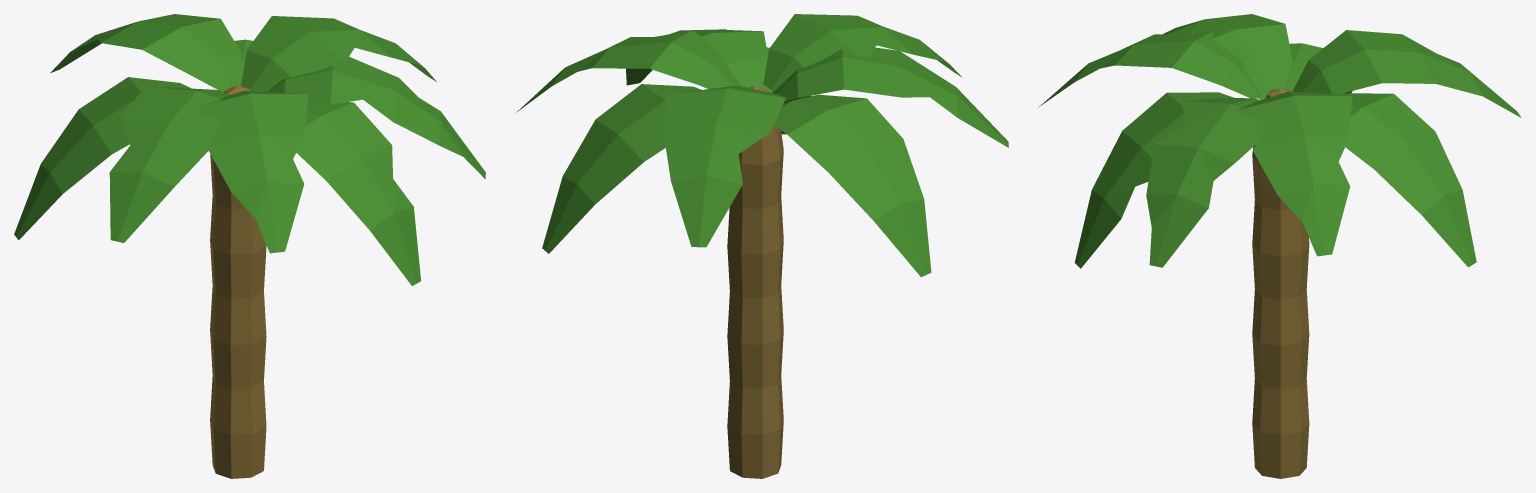
File: PalmTree_2.fbx
3 renders of one model, left to right at view 1: azimuth 30°, elevation 25°; view 2: azimuth 150°, elevation 25°; view 3: azimuth 270°, elevation 25°, orthographic.
Visible parts, largest first — view 1: Trunk, Leaf_4.002, Leaf_2.001, Leaf_3, Leaf_1, Leaf_4, Leaf_4.001, Leaf_2, Leaf_4.003, Leaf_2.003, Leaf_3.001, Leaf_4.005 (+3 smaller); view 2: Trunk, Leaf_1, Leaf_2, Leaf_1.001, Leaf_4.002, Leaf_4, Leaf_3.001, Leaf_1.002, Leaf_2.002, Leaf_3, Leaf_4.001, Leaf_1.003 (+3 smaller); view 3: Trunk, Leaf_4, Leaf_4.001, Leaf_1.001, Leaf_2, Leaf_2.001, Leaf_4.002, Leaf_3.001, Leaf_4.005, Leaf_4.004, Leaf_1.003, Leaf_2.002 (+3 smaller).
Part boxes in pixels (left/top/right/bottom): Trunk: left=210, top=86, right=266, bottom=478; Leaf_4.002: left=199, top=90, right=308, bottom=253; Leaf_2.001: left=296, top=102, right=420, bottom=285; Leaf_3: left=109, top=86, right=220, bottom=242; Leaf_1: left=14, top=77, right=190, bottom=240; Leaf_4: left=241, top=16, right=436, bottom=91; Leaf_4.001: left=268, top=57, right=485, bottom=179; Leaf_2: left=50, top=14, right=242, bottom=91; Leaf_4.003: left=200, top=91, right=306, bottom=251; Leaf_2.003: left=297, top=102, right=419, bottom=283; Leaf_3.001: left=120, top=86, right=229, bottom=138; Leaf_4.005: left=242, top=16, right=434, bottom=91; Trunk: left=727, top=86, right=783, bottom=478; Leaf_1: left=774, top=94, right=931, bottom=276; Leaf_2: left=663, top=85, right=785, bottom=247; Leaf_1.001: left=542, top=84, right=701, bottom=253; Leaf_4.002: left=763, top=14, right=962, bottom=91; Leaf_4: left=516, top=30, right=740, bottom=112; Leaf_3.001: left=772, top=49, right=902, bottom=101; Leaf_1.002: left=777, top=96, right=930, bottom=274; Leaf_2.002: left=663, top=86, right=782, bottom=246; Leaf_3: left=844, top=47, right=1008, bottom=147; Leaf_4.001: left=626, top=29, right=767, bottom=87; Leaf_1.003: left=542, top=84, right=694, bottom=252; Trunk: left=1252, top=88, right=1309, bottom=478; Leaf_4: left=1237, top=91, right=1352, bottom=256; Leaf_4.001: left=1146, top=98, right=1265, bottom=267; Leaf_1.001: left=1340, top=93, right=1476, bottom=267; Leaf_2: left=1292, top=30, right=1521, bottom=117; Leaf_2.001: left=1074, top=92, right=1234, bottom=268; Leaf_4.002: left=1038, top=30, right=1261, bottom=107; Leaf_3.001: left=1187, top=14, right=1292, bottom=99; Leaf_4.005: left=1238, top=91, right=1351, bottom=255; Leaf_4.004: left=1146, top=98, right=1264, bottom=265; Leaf_1.003: left=1345, top=93, right=1475, bottom=265; Leaf_2.002: left=1296, top=31, right=1519, bottom=116.
Bounding box in the file's own units: 405 × 386 × 412.
